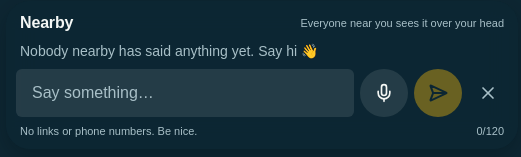
Test case: TalkComposer › dictates on the device into the box, after what was typed
Type "Ok," into the field named "Say something to people nearby".
click(185, 93); type("Ok,")  # box top-left (16, 69), bottom-right (354, 117)
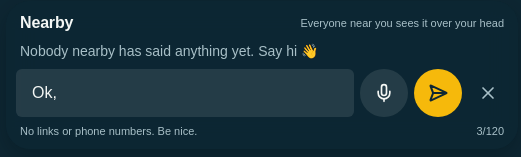
Click the button named "Dictate (speech to text on this device)".
click(384, 93)  # box top-left (360, 69), bottom-right (408, 117)
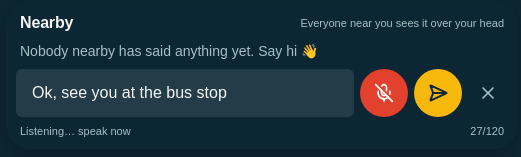
Check: the field named "Say something to people nearby" holds "Ok, see you at the bus stop", box top-left (16, 69), bottom-right (354, 117)
